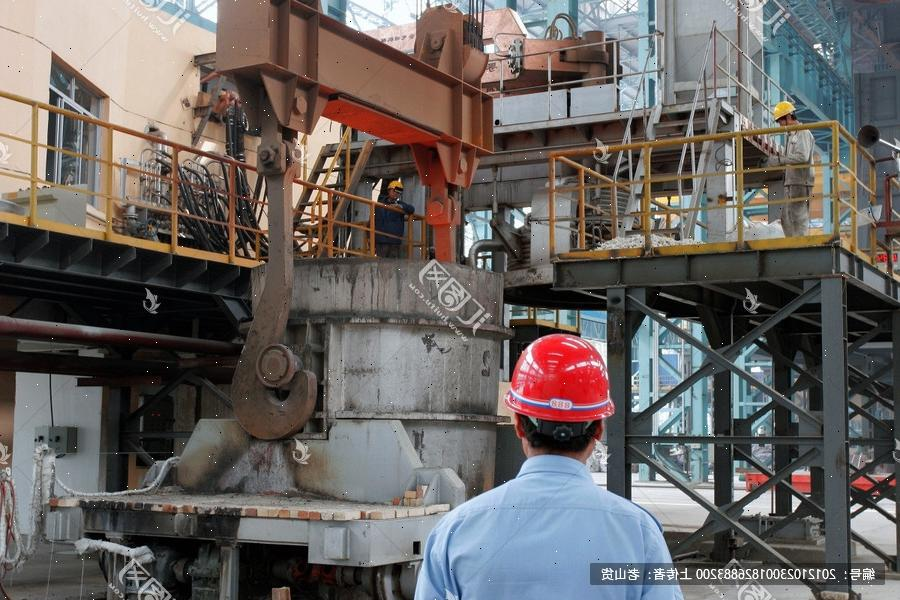helmet: (508, 334, 616, 426), (769, 100, 798, 118), (850, 478, 879, 494), (384, 180, 408, 197)
wear: (415, 486, 676, 600), (371, 200, 412, 245), (785, 130, 814, 191)
